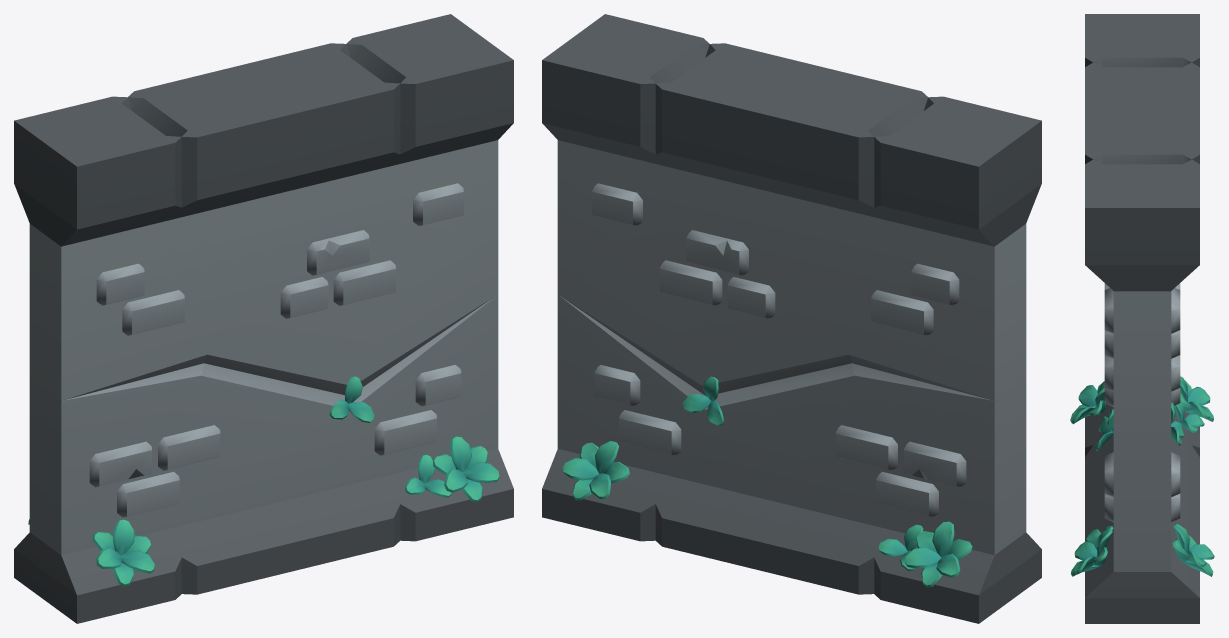
File: dungeon-wall-cracked.glb
The picture shows the model from 3 angles, left to right: view 1: azimuth 30°, elevation 25°; view 2: azimuth 150°, elevation 25°; view 3: azimuth 270°, elevation 25°; orthographic projection. The views are drawn at different scales.
Visible parts, largest first — view 1: dungeon-wall-cracked; view 2: dungeon-wall-cracked; view 3: dungeon-wall-cracked.
Boxes of the visible parts, x1=… form: dungeon-wall-cracked: x1=14, y1=14, x2=513, y2=623; dungeon-wall-cracked: x1=542, y1=14, x2=1041, y2=623; dungeon-wall-cracked: x1=1070, y1=14, x2=1214, y2=623.
Size of the model in its own units: 3 by 3 by 0.9446.
Materials: 1 (1 with a texture image).
